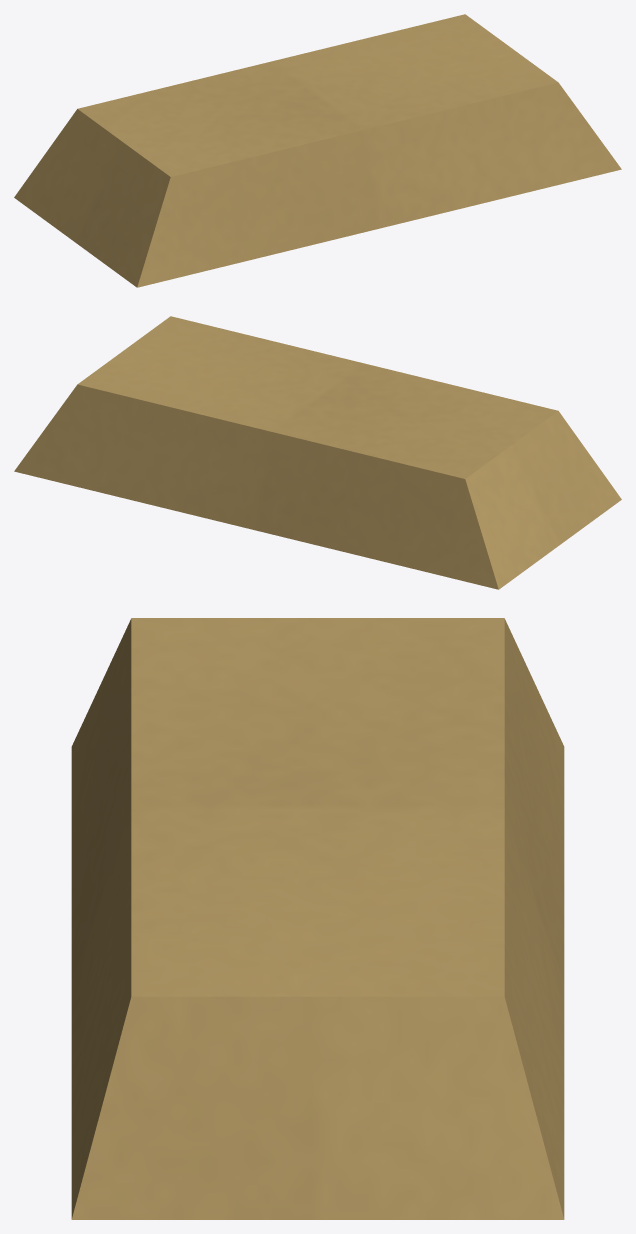
The model's file is ingot_bronze.glb.
3 views of the same model, one above another, from view 1: azimuth 30°, elevation 25°; view 2: azimuth 150°, elevation 25°; view 3: azimuth 270°, elevation 25° (orthographic). The views are drawn at different scales.
Parts seen in each view (by area): view 1: cast bronze ingot; view 2: cast bronze ingot; view 3: cast bronze ingot.
Boxes of the visible parts, x1=… form: cast bronze ingot: x1=14, y1=14, x2=621, y2=287; cast bronze ingot: x1=14, y1=316, x2=621, y2=589; cast bronze ingot: x1=71, y1=618, x2=564, y2=1219.
Size of the model in its own units: 0.15 by 0.026 by 0.066.
1 material, 1 textured.
